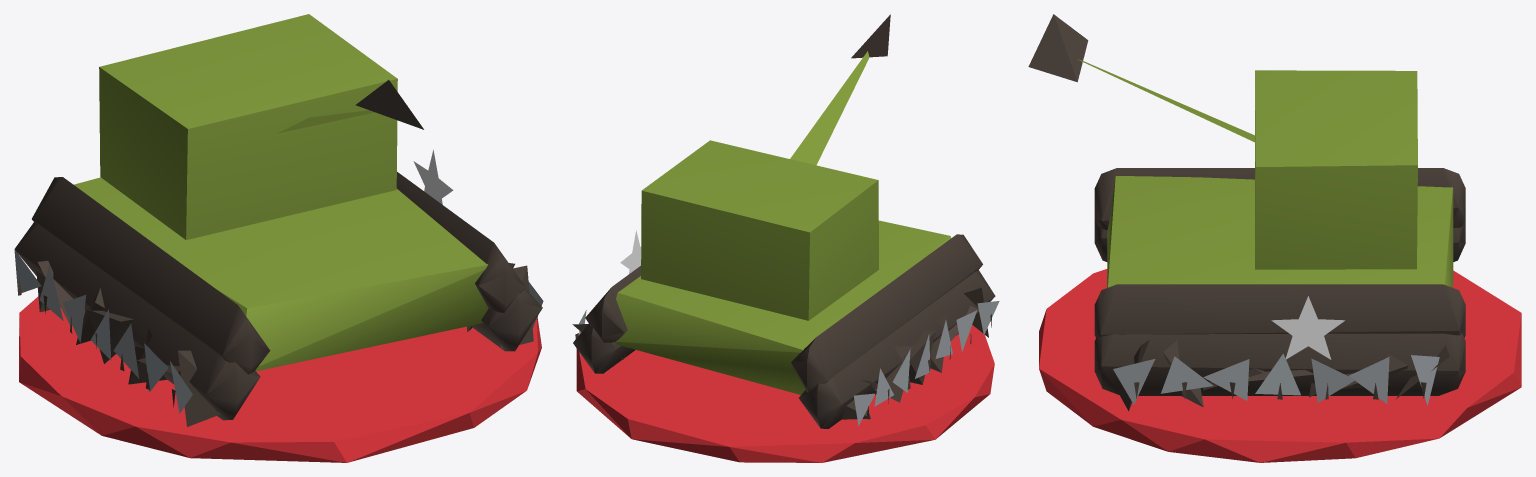
The model's file is usa_artillery_lod1.glb.
3 views of the same model, side by side, from view 1: azimuth 30°, elevation 25°; view 2: azimuth 150°, elevation 25°; view 3: azimuth 270°, elevation 25° (orthographic). The views are drawn at different scales.
Parts seen in each view (by area): view 1: body_hull, base_pedestal; view 2: body_hull, base_pedestal; view 3: body_hull, base_pedestal.
Part boxes in pixels (x1=…): body_hull: x1=14, y1=14, x2=543, y2=426; base_pedestal: x1=19, y1=296, x2=541, y2=462; body_hull: x1=572, y1=14, x2=999, y2=428; base_pedestal: x1=576, y1=325, x2=994, y2=462; body_hull: x1=1028, y1=14, x2=1465, y2=411; base_pedestal: x1=1039, y1=269, x2=1521, y2=462.
Bounding box in the file's own units: 0.7709 × 0.5914 × 0.7767.
